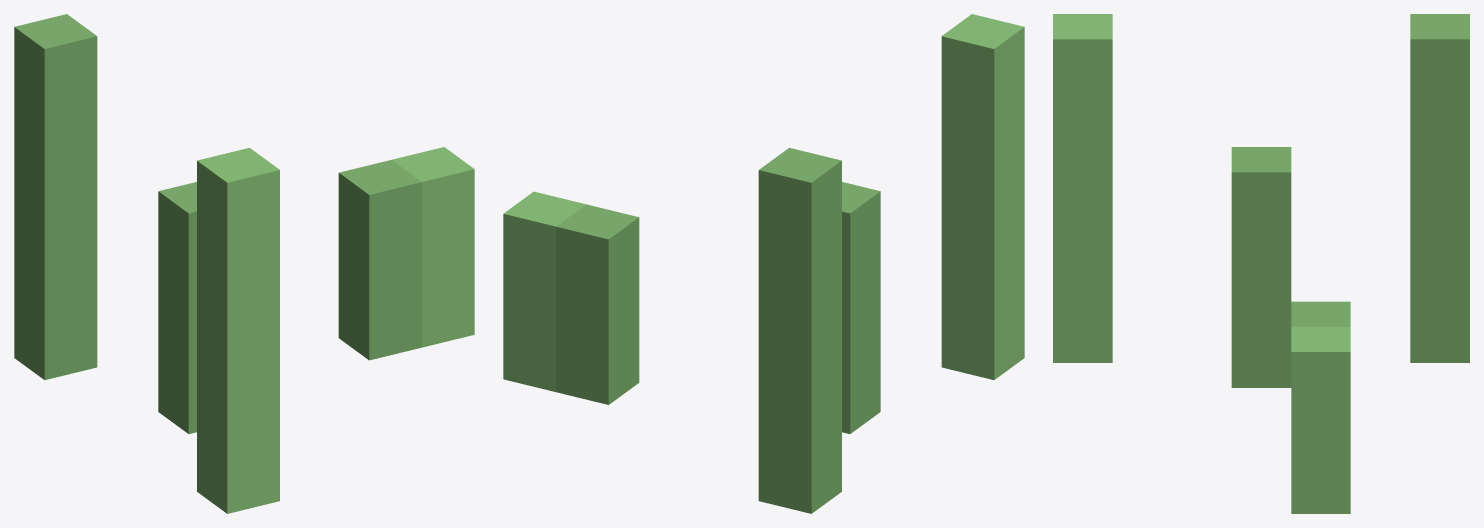
Rendered from trebol_03.glb.
3 views of the same model, side by side, from view 1: azimuth 30°, elevation 25°; view 2: azimuth 150°, elevation 25°; view 3: azimuth 270°, elevation 25° (orthographic). The views are drawn at different scales.
Visible parts, largest first — view 1: trebol_03; view 2: trebol_03; view 3: trebol_03.
Part boxes in pixels (x1=…): trebol_03: x1=14, y1=14, x2=474, y2=513; trebol_03: x1=503, y1=14, x2=1024, y2=513; trebol_03: x1=1053, y1=14, x2=1469, y2=513.
Size of the model in its own units: 0.7 by 0.6 by 0.7.
